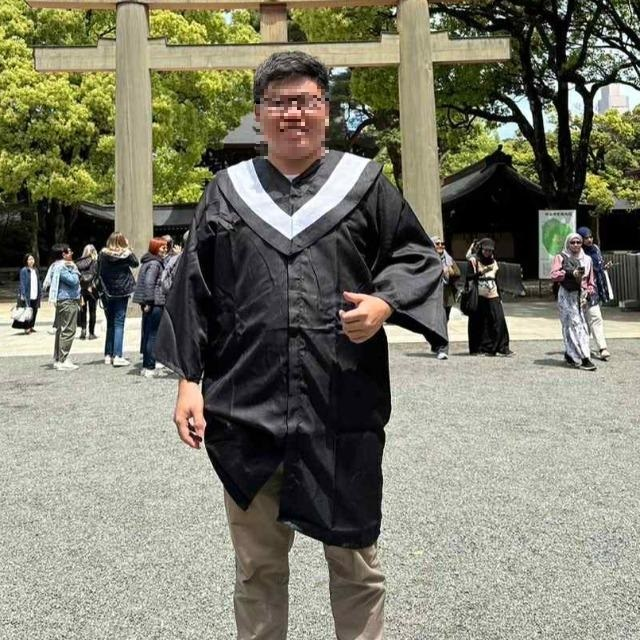NoHelmet: (252, 50, 331, 161)
NoVest: (193, 148, 395, 408)
